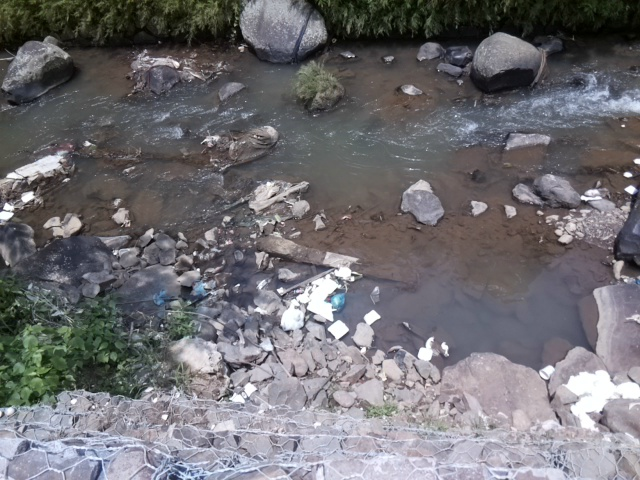Sampah_Plastik: (561, 371, 639, 427), (278, 306, 306, 331), (330, 289, 347, 312)
Sampah_Styrofoam: (298, 271, 335, 322), (326, 319, 351, 340), (334, 265, 353, 282), (362, 309, 380, 326), (415, 346, 435, 361)
